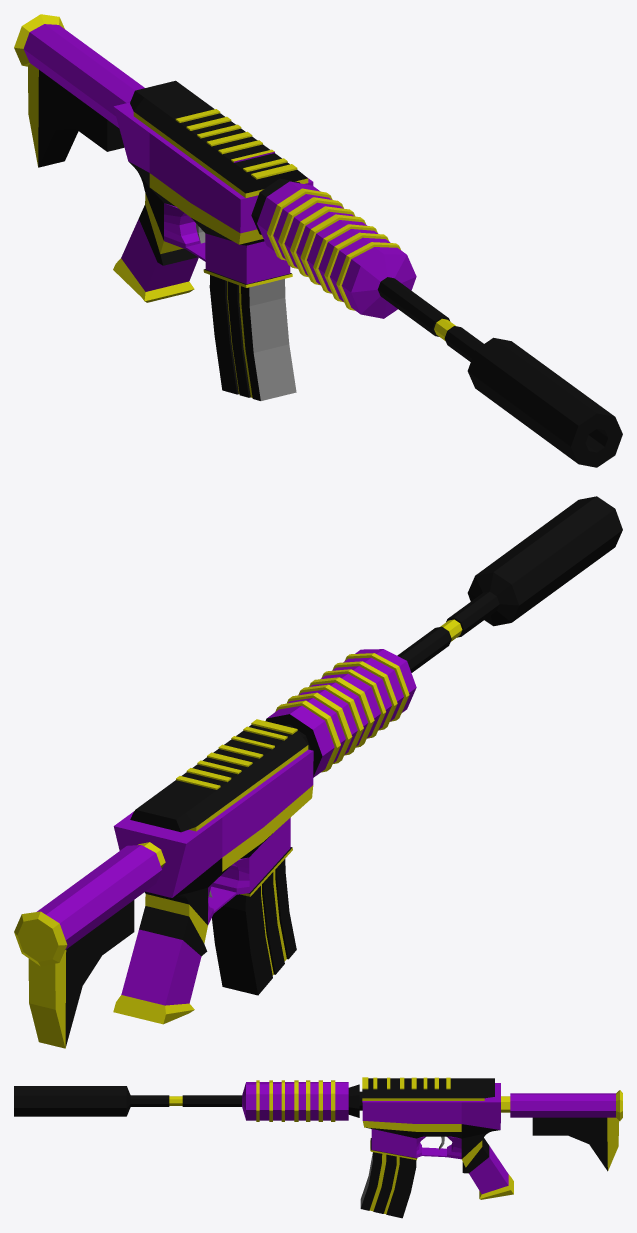
The picture shows the model from 3 angles, top to bottom: view 1: azimuth 30°, elevation 25°; view 2: azimuth 150°, elevation 25°; view 3: azimuth 270°, elevation 25°; orthographic projection. The views are drawn at different scales.
Parts seen in each view (by area): view 1: Cube; view 2: Cube; view 3: Cube.
Boxes of the visible parts, <box> form: Cube: <box>14,14,622,467</box>; Cube: <box>14,496,622,1048</box>; Cube: <box>14,1077,622,1218</box>.
Bounding box in the file's own units: 7.85 × 25.07 × 105.
